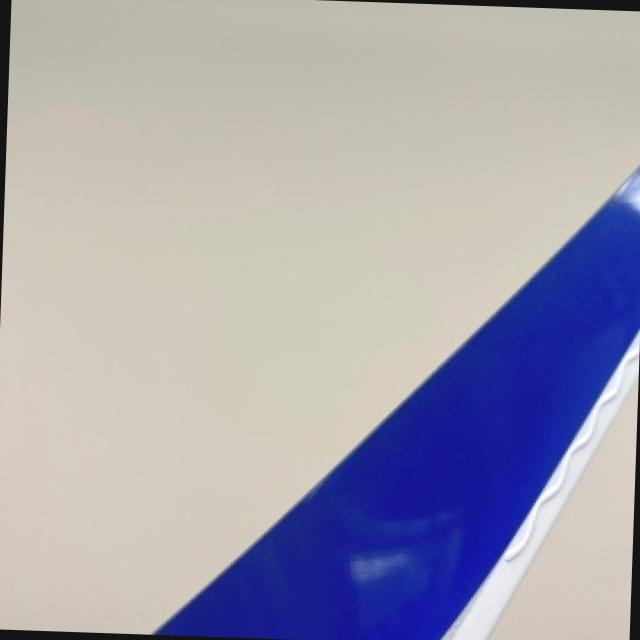healthy: (0, 0, 640, 632), (167, 0, 571, 411)
